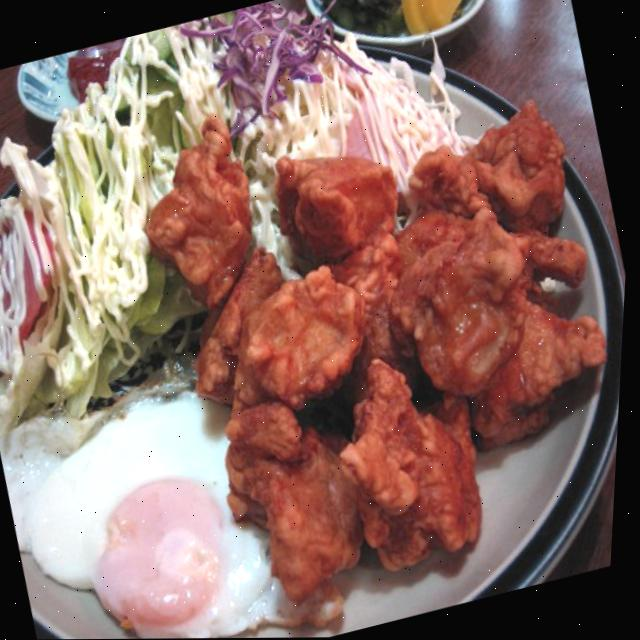鸡肉料理 含炸鸡: (131, 52, 638, 639)
